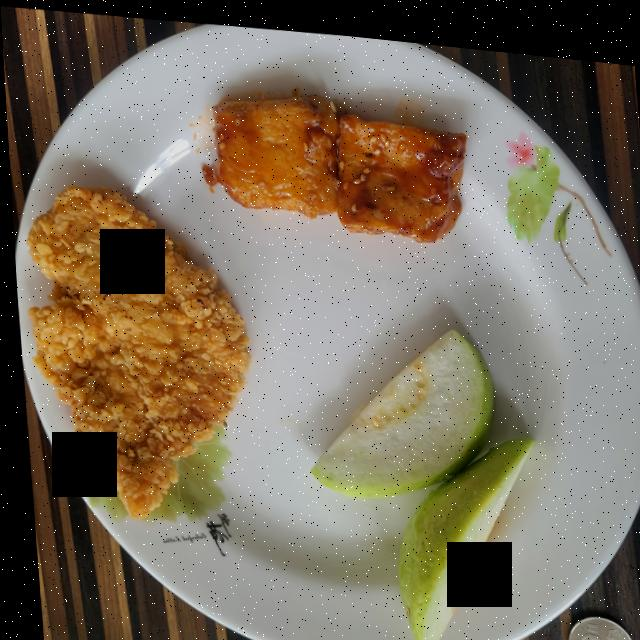coin: (560, 604, 628, 640)
creamy tofu: (201, 88, 464, 232)
fried chicken cutlet: (23, 185, 245, 516)
guava -sliced-: (307, 321, 529, 640)
